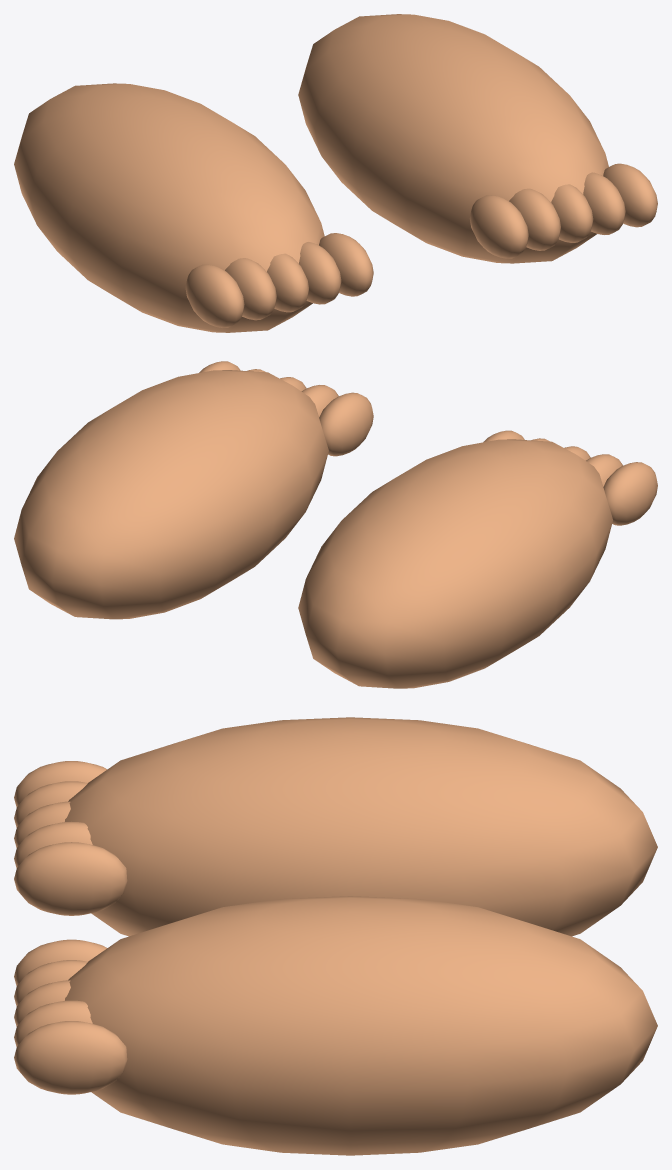
The model's file is word-feet.glb.
3 renders of one model, top to bottom at view 1: azimuth 30°, elevation 25°; view 2: azimuth 150°, elevation 25°; view 3: azimuth 270°, elevation 25°, orthographic. The views are drawn at different scales.
Parts seen in each view (by area): view 1: foot.001, foot, toe, toe.005, toe.009, toe.004, toe.001, toe.006, toe.008, toe.003, toe.002, toe.007; view 2: foot, foot.001, toe.005, toe, toe.006, toe.001; view 3: foot.001, foot, toe.009, toe.004, toe, toe.005, toe.003, toe.008, toe.001, toe.006, toe.002, toe.007.
Part boxes in pixels (x1,y1,x2,y2): foot.001: (298, 14, 608, 263); foot: (14, 83, 324, 332); toe: (185, 264, 244, 327); toe.005: (469, 195, 528, 258); toe.009: (603, 163, 657, 227); toe.004: (319, 233, 373, 296); toe.001: (225, 258, 276, 320); toe.006: (509, 188, 560, 250); toe.008: (583, 172, 625, 234); toe.003: (299, 242, 341, 304); toe.002: (267, 253, 308, 312); toe.007: (551, 184, 593, 242); foot: (298, 439, 612, 688); foot.001: (14, 370, 328, 619); toe.005: (319, 392, 373, 456); toe: (603, 462, 657, 525); toe.006: (301, 385, 338, 416); toe.001: (586, 454, 622, 486); foot.001: (65, 896, 657, 1155); foot: (65, 717, 657, 936); toe.009: (14, 1021, 127, 1094); toe.004: (14, 842, 127, 915); toe: (14, 761, 106, 807); toe.005: (14, 939, 107, 985); toe.003: (14, 821, 92, 868); toe.008: (14, 1000, 92, 1046); toe.001: (14, 781, 87, 827); toe.006: (14, 960, 87, 1006); toe.002: (14, 801, 70, 847); toe.007: (14, 980, 70, 1026).
Bounding box in the file's own units: 0.76 × 0.26 × 0.67.
